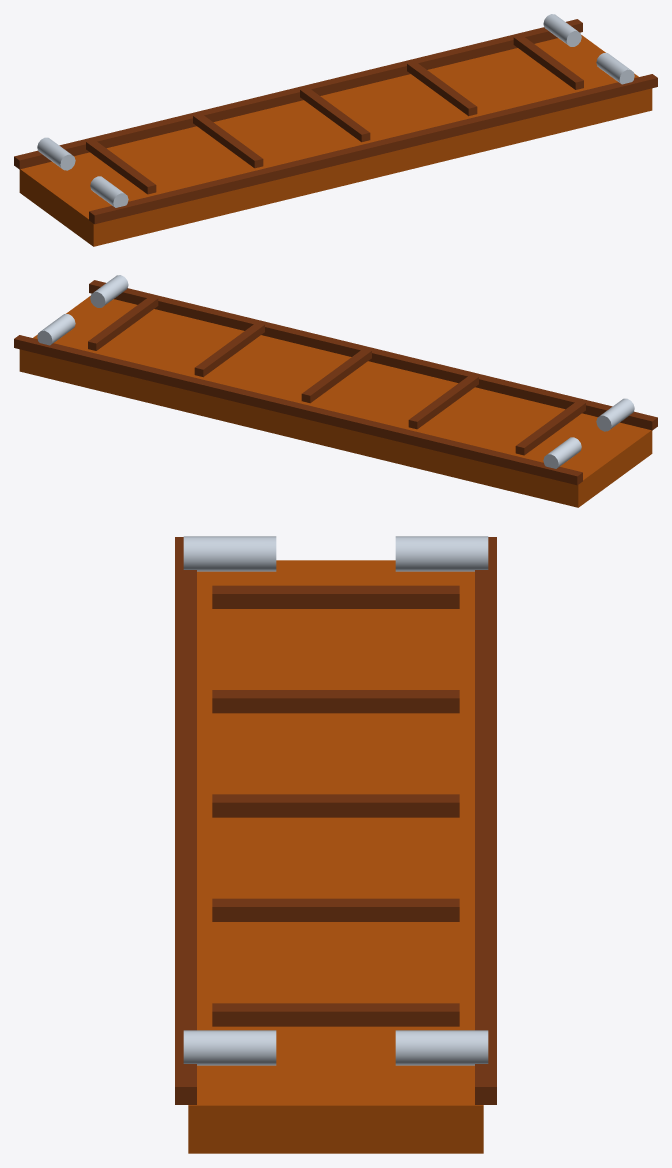
Rendered from toy_castle_drawbridge.glb.
3 renders of one model, top to bottom at view 1: azimuth 30°, elevation 25°; view 2: azimuth 150°, elevation 25°; view 3: azimuth 270°, elevation 25°, orthographic. The views are drawn at different scales.
Visible parts, largest first — view 1: solid_1, solid_3, solid_2, solid_8, solid_4, solid_5, solid_6, solid_7, solid_9, solid_11, solid_10, solid_12; view 2: solid_1, solid_2, solid_3, solid_8, solid_4, solid_5, solid_6, solid_7, solid_10, solid_12, solid_9, solid_11; view 3: solid_1, solid_2, solid_3, solid_4, solid_5, solid_6, solid_7, solid_8, solid_9, solid_10, solid_11, solid_12.
Part boxes in pixels (<box>): solid_1: <box>19,35,652,246</box>; solid_3: <box>89,74,657,224</box>; solid_2: <box>14,19,582,169</box>; solid_8: <box>513,35,583,89</box>; solid_4: <box>86,139,156,194</box>; solid_5: <box>193,113,263,168</box>; solid_6: <box>300,87,370,142</box>; solid_7: <box>407,61,477,116</box>; solid_9: <box>37,137,75,170</box>; solid_11: <box>543,14,581,46</box>; solid_10: <box>90,176,128,207</box>; solid_12: <box>596,53,634,84</box>; solid_1: <box>19,296,652,507</box>; solid_2: <box>14,335,582,485</box>; solid_3: <box>89,280,657,430</box>; solid_8: <box>88,296,158,350</box>; solid_4: <box>515,400,585,455</box>; solid_5: <box>408,374,478,429</box>; solid_6: <box>301,348,371,403</box>; solid_7: <box>194,322,264,377</box>; solid_10: <box>596,398,634,431</box>; solid_12: <box>90,275,128,307</box>; solid_9: <box>543,437,581,468</box>; solid_11: <box>37,314,75,345</box>; solid_1: <box>188,560,483,1153</box>; solid_2: <box>475,537,496,1104</box>; solid_3: <box>175,537,196,1104</box>; solid_4: <box>212,585,459,608</box>; solid_5: <box>212,690,459,713</box>; solid_6: <box>212,794,459,817</box>; solid_7: <box>212,898,459,921</box>; solid_8: <box>212,1003,459,1026</box>; solid_9: <box>395,536,488,571</box>; solid_10: <box>183,536,276,571</box>; solid_11: <box>395,1030,488,1065</box>; solid_12: <box>183,1030,276,1065</box>.
Bounding box in the file's own units: 5.9 × 0.48 × 1.46.
